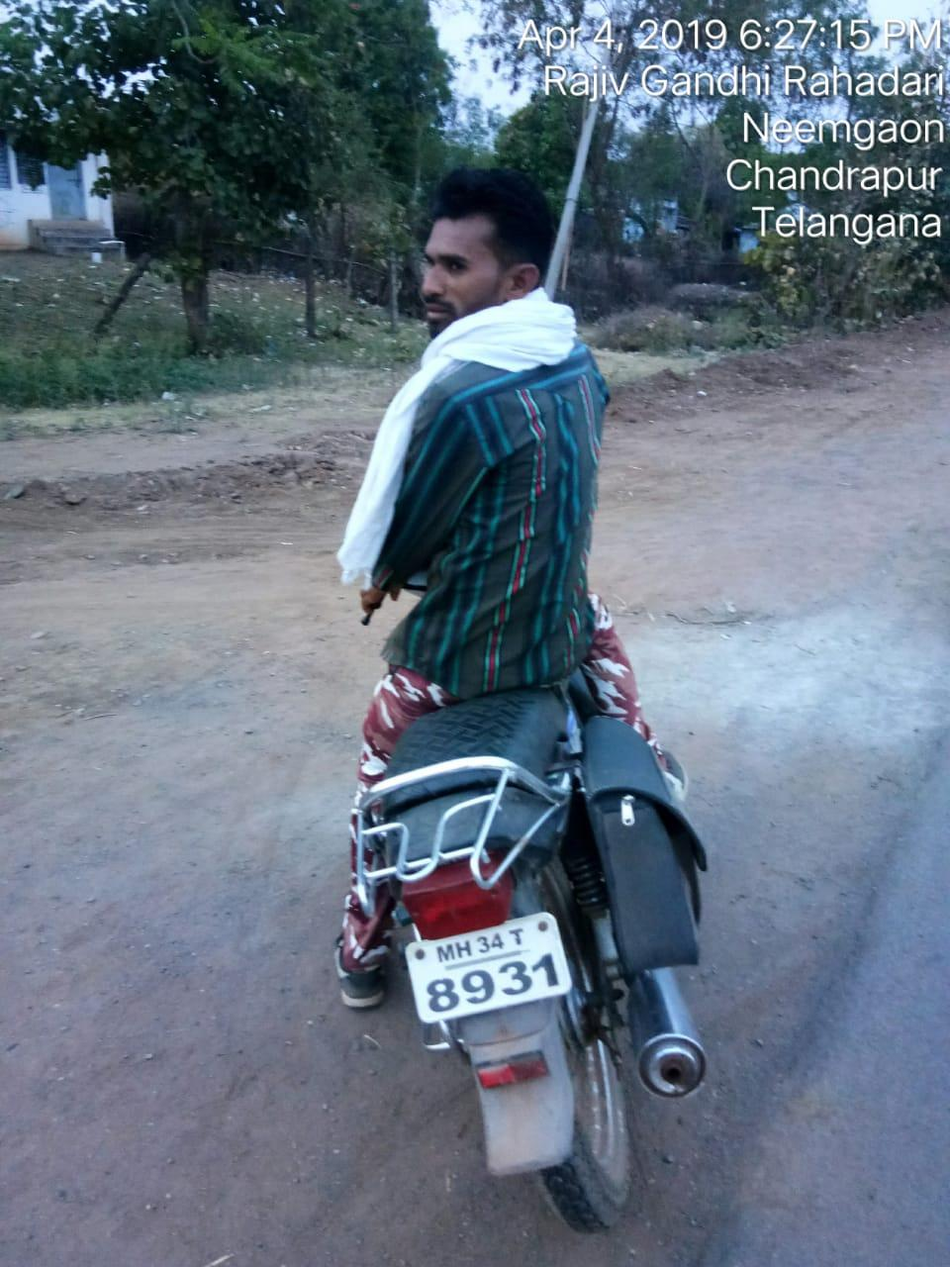plate: (391, 908, 608, 1036)
